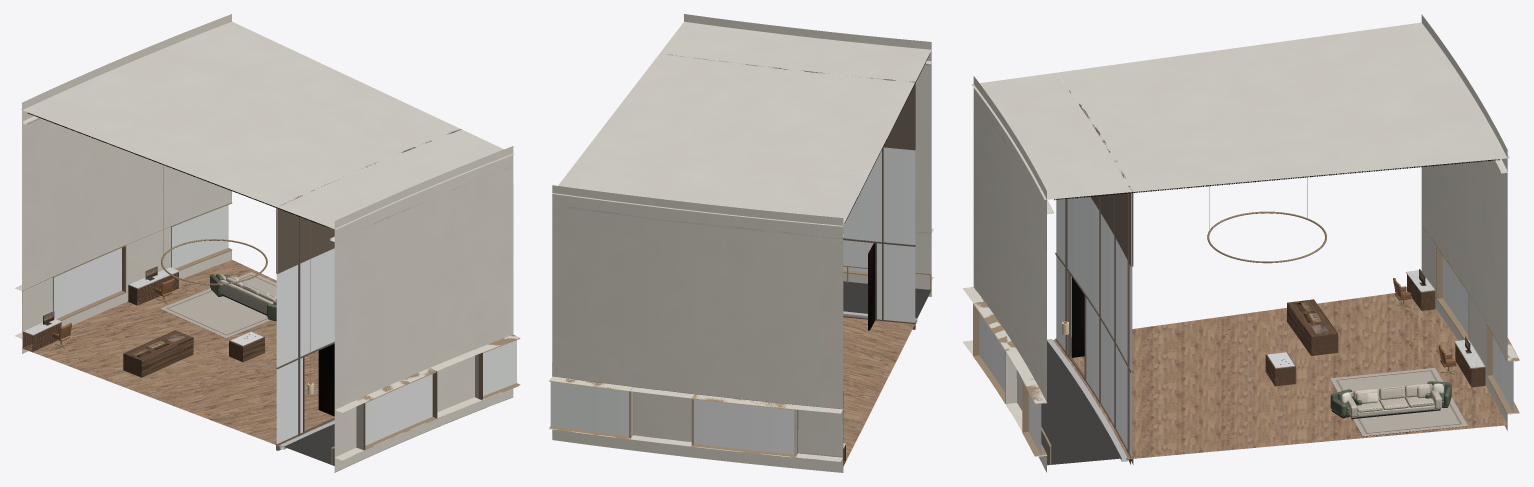
The picture shows the model from 3 angles, left to right: view 1: azimuth 30°, elevation 25°; view 2: azimuth 150°, elevation 25°; view 3: azimuth 270°, elevation 25°; orthographic projection. The views are drawn at different scales.
Visible parts, largest first — view 1: c3420, c3420 leaves; view 2: c3420, c3420 leaves; view 3: c3420, c3420 leaves.
Part boxes in pixels (x1=…): c3420: x1=14, y1=14, x2=520, y2=472; c3420 leaves: x1=27, y1=112, x2=334, y2=416; c3420: x1=549, y1=14, x2=933, y2=472; c3420 leaves: x1=844, y1=53, x2=930, y2=330; c3420: x1=962, y1=14, x2=1519, y2=472; c3420 leaves: x1=1054, y1=159, x2=1499, y2=357.
Bounding box in the file's own units: 18.07 × 13.2 × 23.66.
Materials: 12 (1 with a texture image).
